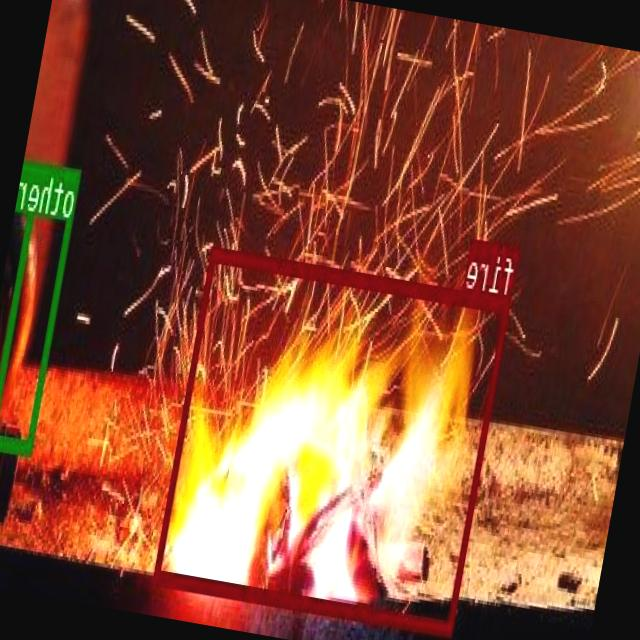fire: (154, 244, 512, 633)
